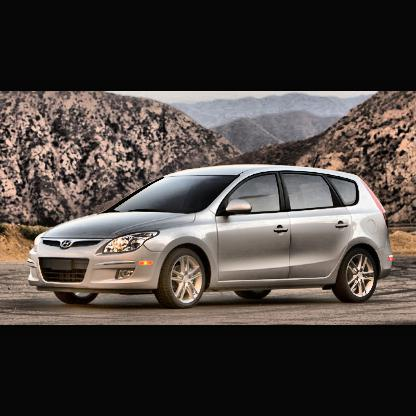Hyundai Elantra Touring Hatchback 2012: (25, 160, 399, 310)
